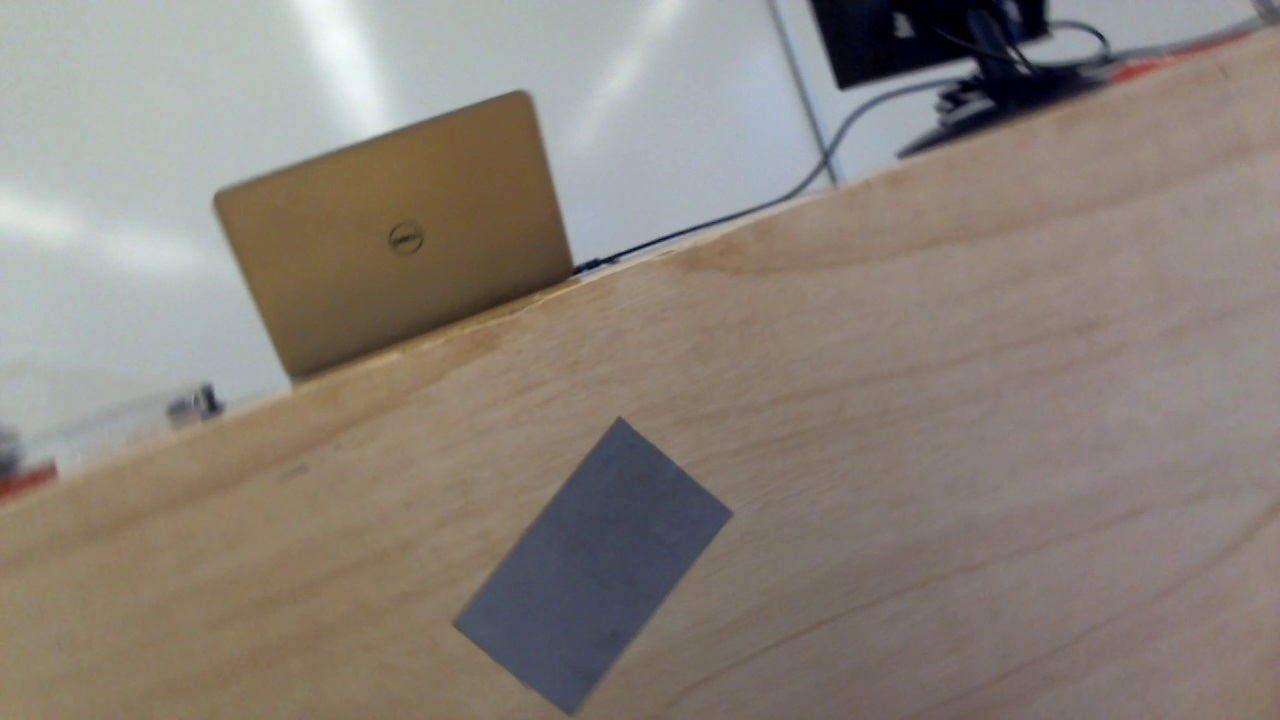Tape: (448, 417, 735, 714)
